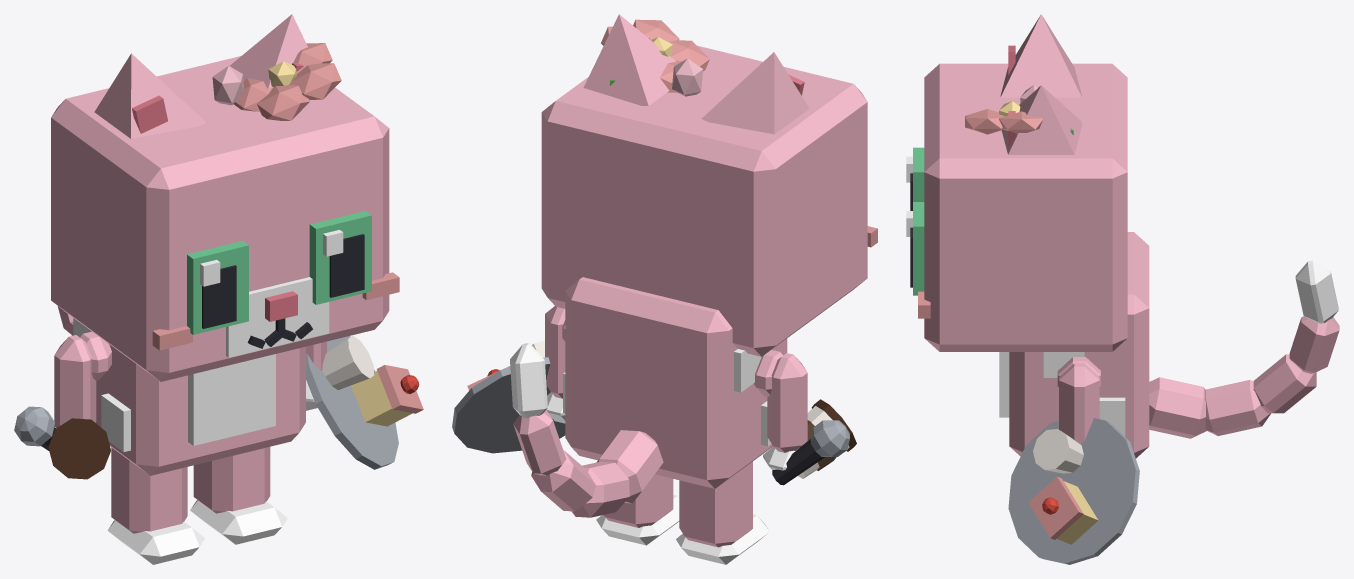
File: CatCafe_Cat_Sakura_Work.glb
The picture shows the model from 3 angles, left to right: view 1: azimuth 30°, elevation 25°; view 2: azimuth 150°, elevation 25°; view 3: azimuth 270°, elevation 25°; orthographic projection. The views are drawn at different scales.
Visible parts, largest first — view 1: CatCafe_Cat_Sakura_Work_Head, CatCafe_Cat_Sakura_Work_Body, CatCafe_Cat_Sakura_Work_Held_Waiter, CatCafe_Cat_Sakura_Work_LegB2, CatCafe_Cat_Sakura_Work_LegB1, CatCafe_Cat_Sakura_Work_Prop, CatCafe_Cat_Sakura_Work_Eye1, CatCafe_Cat_Sakura_Work_Eye2, CatCafe_Cat_Sakura_Work_EarR, CatCafe_Cat_Sakura_Work_LegF2, CatCafe_Cat_Sakura_Work_Held_Barista, CatCafe_Cat_Sakura_Work_EarL (+2 smaller); view 2: CatCafe_Cat_Sakura_Work_Head, CatCafe_Cat_Sakura_Work_Body, CatCafe_Cat_Sakura_Work_Tail, CatCafe_Cat_Sakura_Work_LegB2, CatCafe_Cat_Sakura_Work_EarL, CatCafe_Cat_Sakura_Work_EarR, CatCafe_Cat_Sakura_Work_Held_Waiter, CatCafe_Cat_Sakura_Work_LegF2, CatCafe_Cat_Sakura_Work_LegB1, CatCafe_Cat_Sakura_Work_Prop, CatCafe_Cat_Sakura_Work_Held_Entertainer, CatCafe_Cat_Sakura_Work_LegF1 (+1 smaller); view 3: CatCafe_Cat_Sakura_Work_Head, CatCafe_Cat_Sakura_Work_Held_Waiter, CatCafe_Cat_Sakura_Work_Body, CatCafe_Cat_Sakura_Work_Tail, CatCafe_Cat_Sakura_Work_EarR, CatCafe_Cat_Sakura_Work_EarL, CatCafe_Cat_Sakura_Work_LegF1, CatCafe_Cat_Sakura_Work_Prop, CatCafe_Cat_Sakura_Work_Eye1, CatCafe_Cat_Sakura_Work_Eye2.
Boxes of the visible parts, <box> form: CatCafe_Cat_Sakura_Work_Head: <box>51,56,399,381</box>; CatCafe_Cat_Sakura_Work_Body: <box>73,318,305,475</box>; CatCafe_Cat_Sakura_Work_Held_Waiter: <box>306,335,423,469</box>; CatCafe_Cat_Sakura_Work_LegB2: <box>107,447,205,564</box>; CatCafe_Cat_Sakura_Work_LegB1: <box>190,447,287,544</box>; CatCafe_Cat_Sakura_Work_Prop: <box>212,43,341,120</box>; CatCafe_Cat_Sakura_Work_Eye1: <box>309,211,371,304</box>; CatCafe_Cat_Sakura_Work_Eye2: <box>187,241,248,334</box>; CatCafe_Cat_Sakura_Work_EarR: <box>94,53,206,138</box>; CatCafe_Cat_Sakura_Work_LegF2: <box>54,335,96,427</box>; CatCafe_Cat_Sakura_Work_Held_Barista: <box>48,418,110,479</box>; CatCafe_Cat_Sakura_Work_EarL: <box>230,14,307,88</box>; CatCafe_Cat_Sakura_Work_Head: <box>541,45,877,356</box>; CatCafe_Cat_Sakura_Work_Body: <box>562,277,787,488</box>; CatCafe_Cat_Sakura_Work_Tail: <box>510,343,663,517</box>; CatCafe_Cat_Sakura_Work_LegB2: <box>676,461,769,564</box>; CatCafe_Cat_Sakura_Work_EarL: <box>583,14,675,105</box>; CatCafe_Cat_Sakura_Work_EarR: <box>701,52,809,134</box>; CatCafe_Cat_Sakura_Work_Held_Waiter: <box>452,340,565,453</box>; CatCafe_Cat_Sakura_Work_LegF2: <box>763,353,807,470</box>; CatCafe_Cat_Sakura_Work_LegB1: <box>596,474,679,545</box>; CatCafe_Cat_Sakura_Work_Prop: <box>601,19,709,96</box>; CatCafe_Cat_Sakura_Work_Held_Entertainer: <box>772,420,849,485</box>; CatCafe_Cat_Sakura_Work_LegF1: <box>545,306,565,423</box>; CatCafe_Cat_Sakura_Work_Head: <box>918,63,1127,351</box>; CatCafe_Cat_Sakura_Work_Held_Waiter: <box>1008,418,1139,564</box>; CatCafe_Cat_Sakura_Work_Body: <box>999,232,1149,458</box>; CatCafe_Cat_Sakura_Work_Tail: <box>1149,260,1339,438</box>; CatCafe_Cat_Sakura_Work_EarR: <box>1000,14,1081,97</box>; CatCafe_Cat_Sakura_Work_EarL: <box>1001,85,1081,154</box>; CatCafe_Cat_Sakura_Work_LegF1: <box>1059,363,1099,444</box>; CatCafe_Cat_Sakura_Work_Prop: <box>965,85,1073,135</box>; CatCafe_Cat_Sakura_Work_Eye1: <box>906,202,924,295</box>; CatCafe_Cat_Sakura_Work_Eye2: <box>906,147,924,210</box>.
Size of the model in its own units: 1.53 by 1.93 by 1.62.
Materials: 1 (1 with a texture image).
